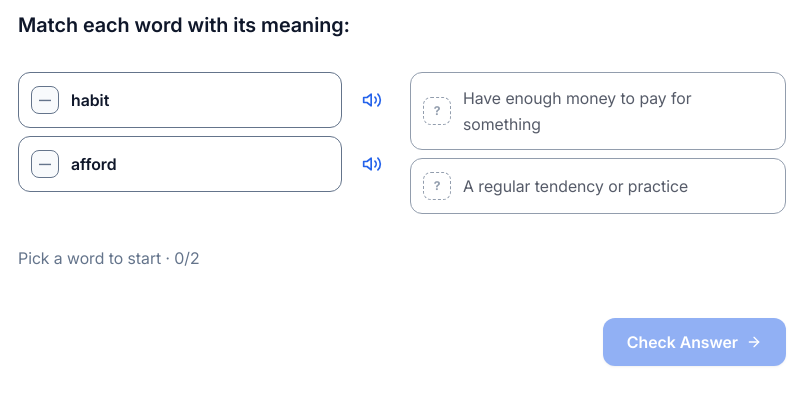
ExerciseMatch › lets a pair be undone
The image size is (805, 403).
What coordinates should you click on to do the following:
click the button "— habit"
I would click on:
 (90, 100)
Its box is top-left (18, 72), bottom-right (342, 128).
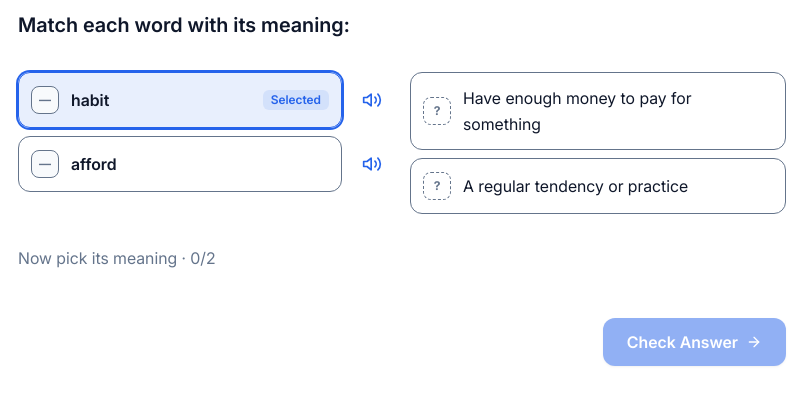
What coordinates should you click on to do the following:
click the button "? A regular tendency or practice"
I would click on:
 (598, 186)
Its box is top-left (410, 158), bottom-right (786, 214).
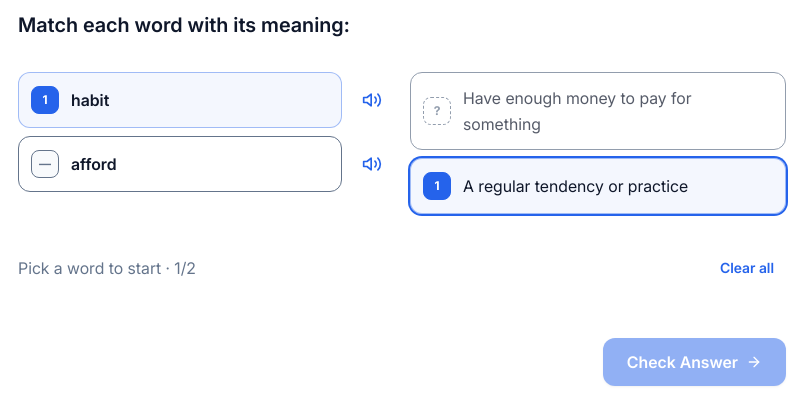
Expected: the text "Pick a word to start · 1/2" is shown, top-left (18, 256), bottom-right (196, 280)
What coordinates should you click on to do the following:
click the button "1 A regular tendency or practice"
I would click on:
 (598, 186)
Its box is top-left (410, 158), bottom-right (786, 214).
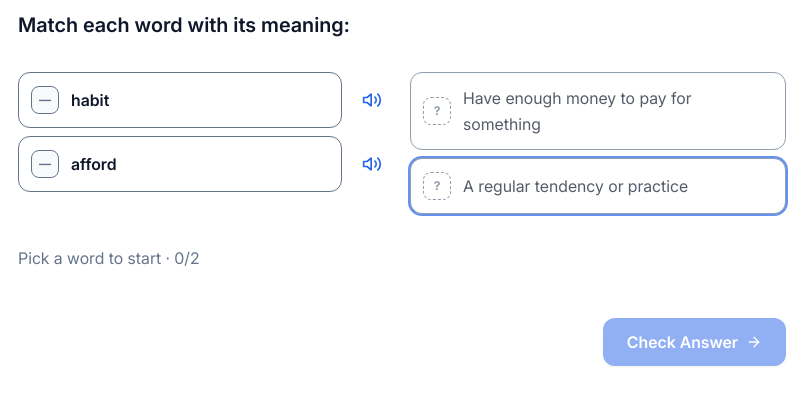
Expected: the text "Pick a word to start · 0/2" is shown, top-left (18, 246), bottom-right (200, 270)
